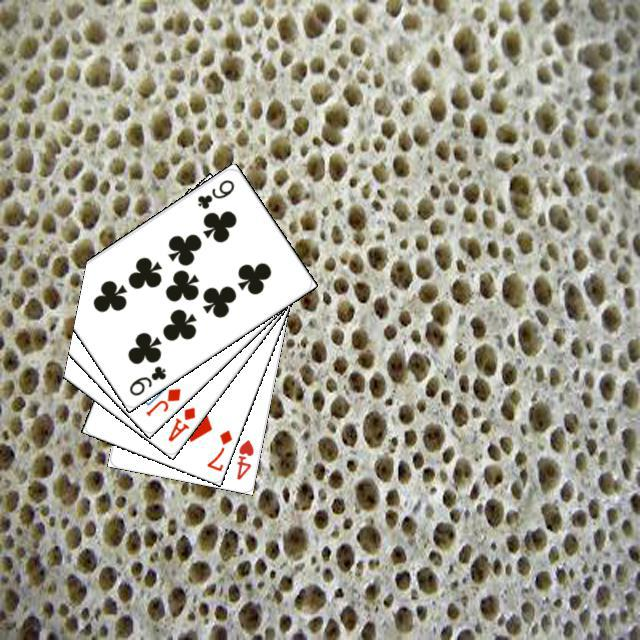4h: (231, 435, 256, 481)
7d: (202, 425, 234, 473)
9c: (124, 361, 168, 398), (192, 174, 236, 211)
Ad: (163, 402, 197, 444)
Jd: (140, 383, 183, 418)
